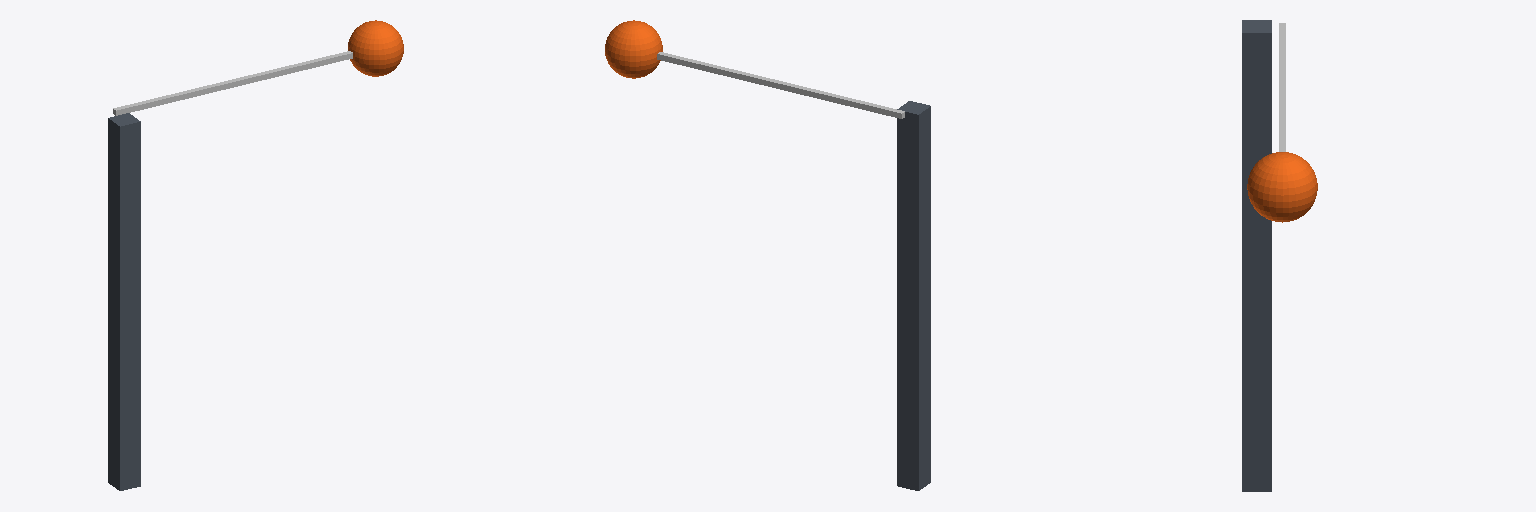
robot.urdf — pendulum:
<?xml version="1.0"?>
<!-- A 1.5 m pendulum released from level: its swing shows gravity at a glance. -->
<robot name="pendulum">
  <link name="world"/>
  <link name="post">
    <visual><origin xyz="0 0 1"/><geometry><box size="0.12 0.12 2"/></geometry>
      <material name="post"><color rgba="0.35 0.38 0.42 1"/></material></visual>
  </link>
  <joint name="post_fix" type="fixed"><parent link="world"/><child link="post"/></joint>
  <link name="arm">
    <inertial><origin xyz="1.5 0 0"/><mass value="2"/>
      <inertia ixx="0.01" iyy="0.01" izz="0.01" ixy="0" ixz="0" iyz="0"/></inertial>
    <visual><origin xyz="0.75 0 0"/><geometry><box size="1.5 0.03 0.03"/></geometry>
      <material name="rod"><color rgba="0.8 0.8 0.8 1"/></material></visual>
    <visual><origin xyz="1.5 0 0"/><geometry><sphere radius="0.14"/></geometry>
      <material name="bob"><color rgba="0.95 0.45 0.15 1"/></material></visual>
  </link>
  <joint name="swing" type="continuous"><parent link="post"/><child link="arm"/>
    <origin xyz="0 0.1 2"/><axis xyz="0 1 0"/></joint>
</robot>

--- Facts derived from the render (not from the file) ---
3 views of the same robot in one strip: view 1: azimuth 30°, elevation 25°; view 2: azimuth 150°, elevation 25°; view 3: azimuth 270°, elevation 25° (orthographic).
Model pendulum with 3 links and 2 joints (1 continuous, 1 fixed), rooted at world, posed every joint at zero.
Links seen in each view (by area): view 1: post, arm; view 2: post, arm; view 3: post, arm.
Boxes of the visible links, bbox=[...] form: post: bbox=[108, 113, 140, 490]; arm: bbox=[113, 20, 403, 115]; post: bbox=[897, 101, 930, 490]; arm: bbox=[605, 20, 904, 118]; post: bbox=[1242, 20, 1271, 491]; arm: bbox=[1247, 23, 1317, 222].
Bounding box of the posed robot: 1.7 × 0.3 × 2.14 m (x, y, z).
Geometry: primitives only (box / cylinder / sphere), no mesh files.
